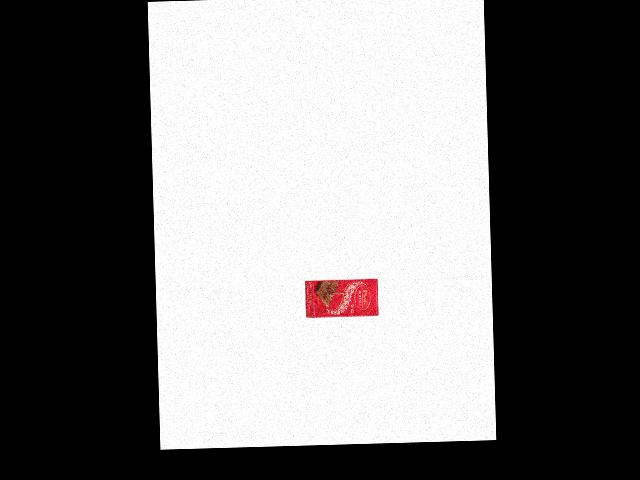chocolate: (305, 274, 378, 319)
